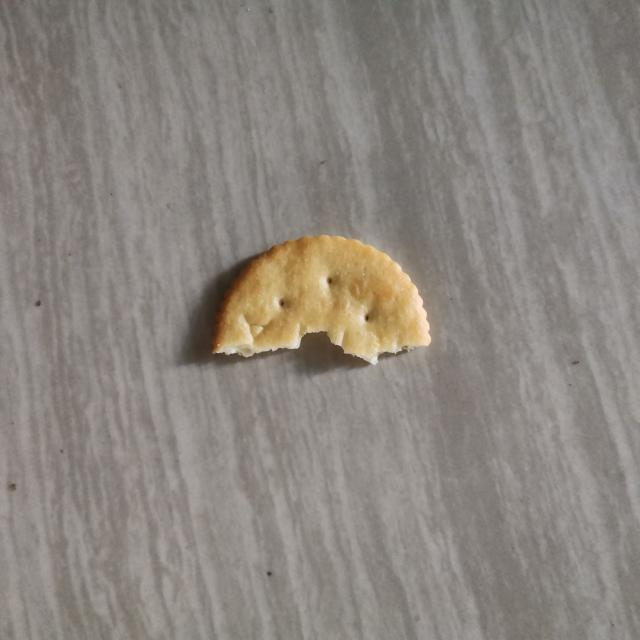Broken: (211, 233, 432, 365)
